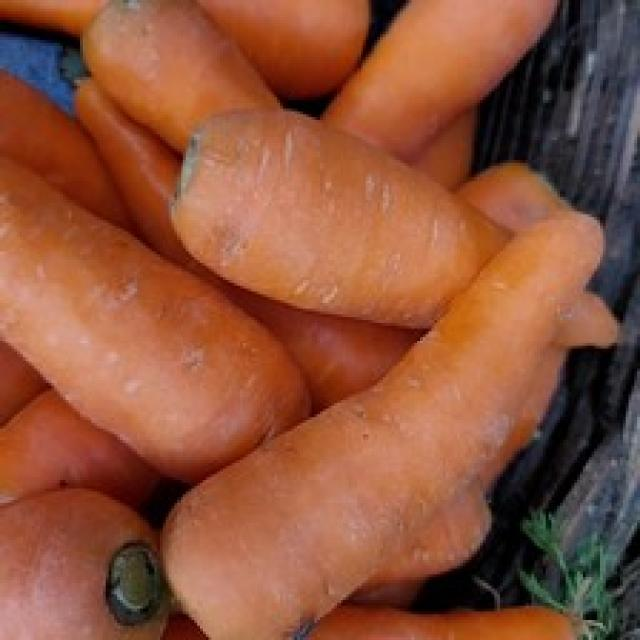Fresh_Carrot: (234, 180, 618, 640), (175, 89, 630, 359), (3, 148, 278, 488)
